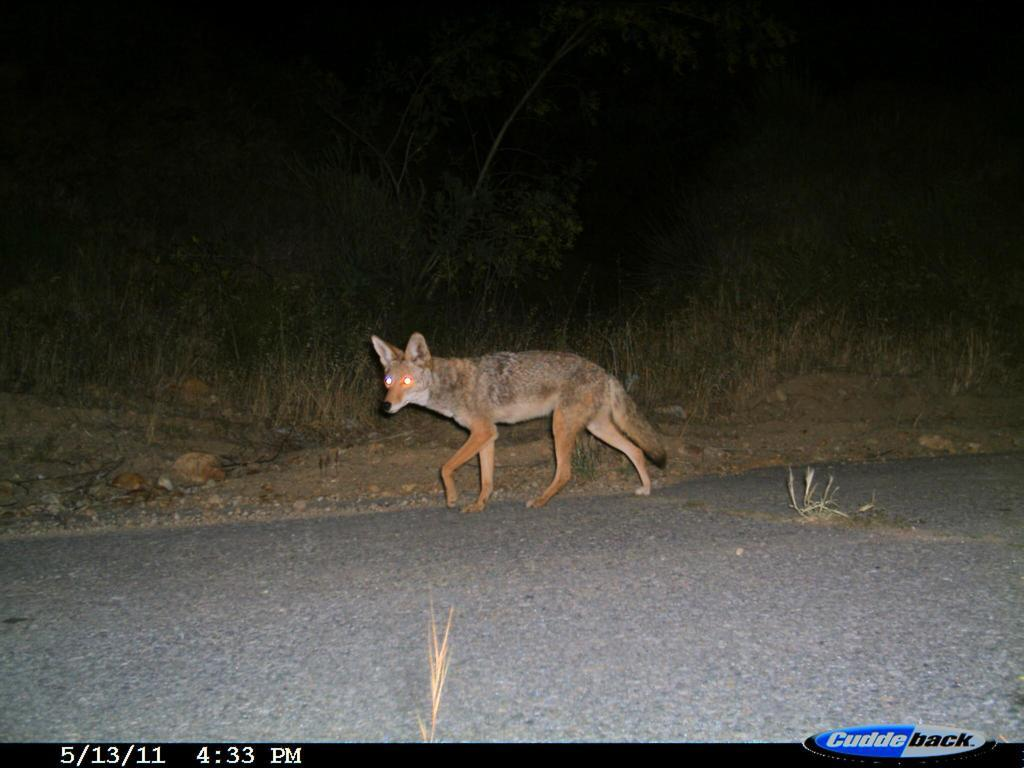coyote: (368, 329, 680, 527)
